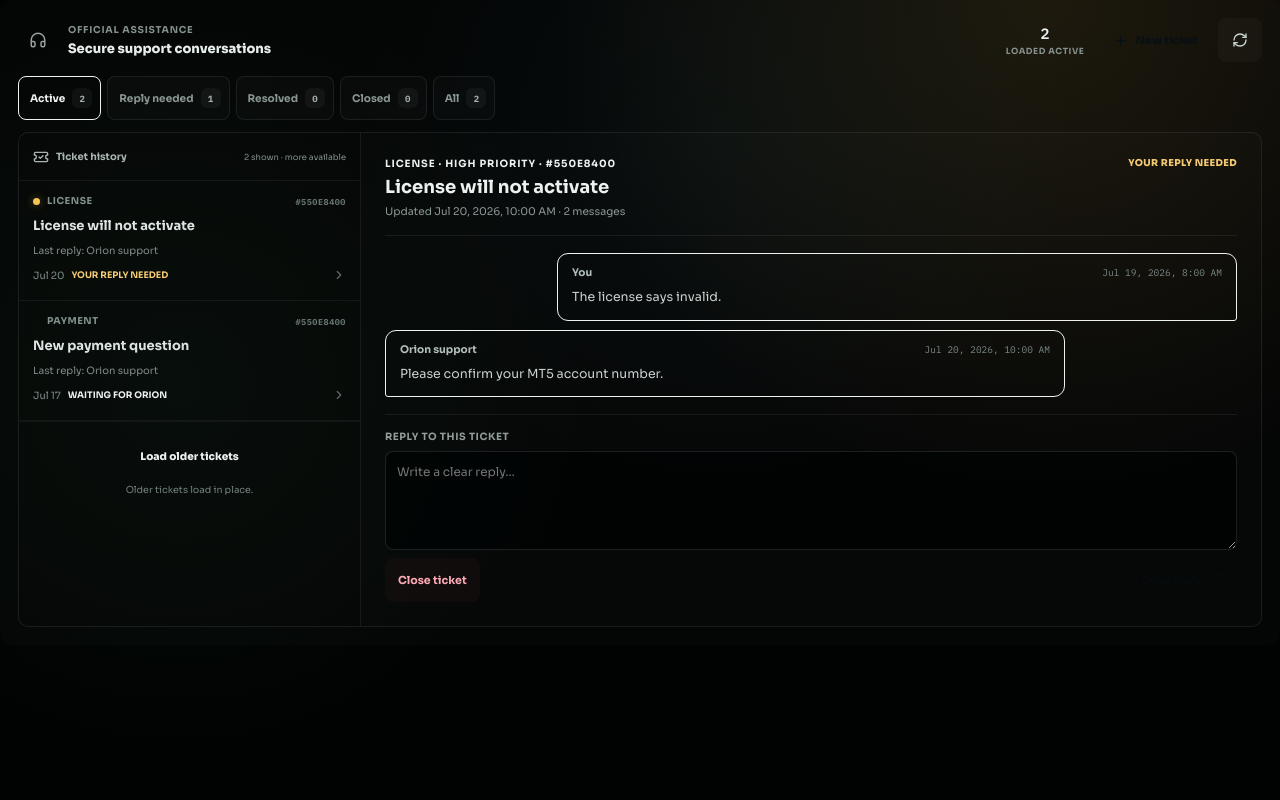
Test: Support Ticket Center › appends and de-duplicates older tickets without replacing the selected thread or address
The image size is (1280, 800).
Check: the heading "License will not activate" is shown, box [385,176,625,199]
Click the button that starts with "Payment" at [73, 321], box [19,301,360,421]
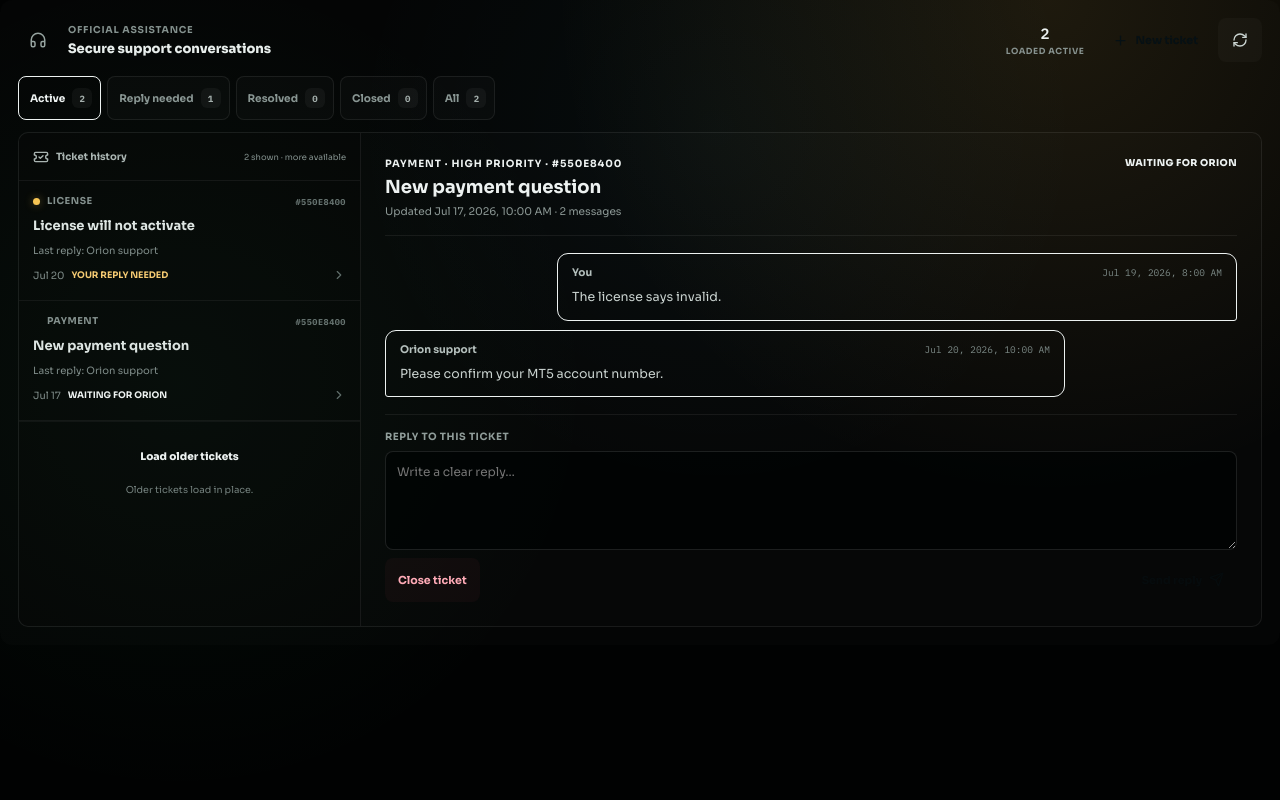
Click the button "Load older tickets" at [190, 456], box [108,434,272,478]
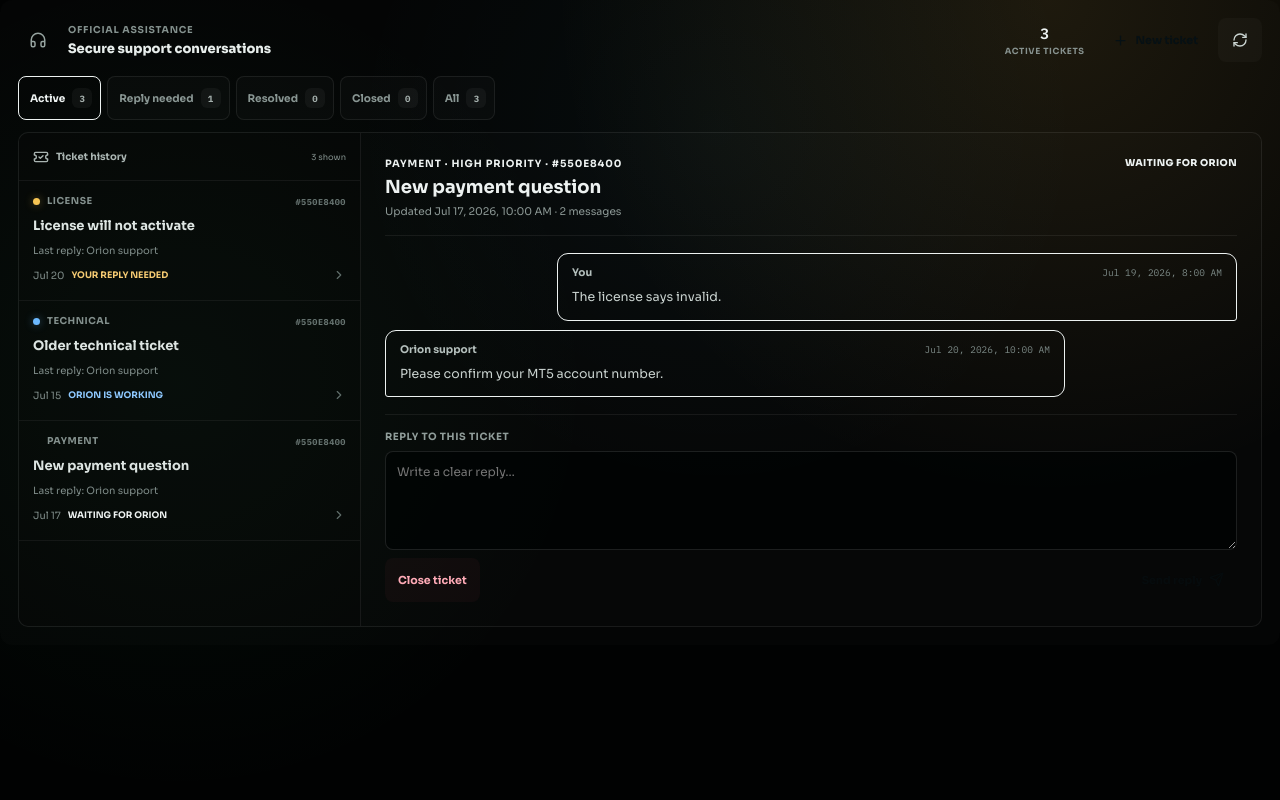
Check: the heading "New payment question" is shown, box [385,176,622,199]
Check: the button that starts with "Technical" is shown, box [19,301,360,421]
Check: the number of buttons "New payment question" is 1, box [19,421,360,541]
